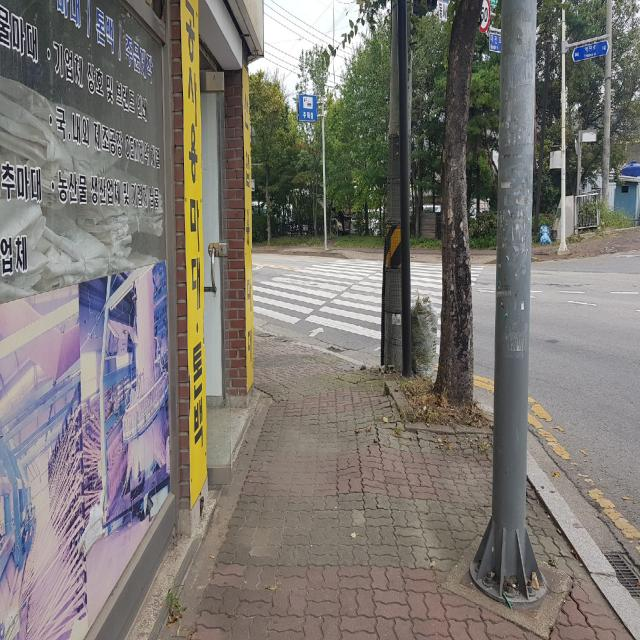횡단보도: (253, 257, 487, 358)
